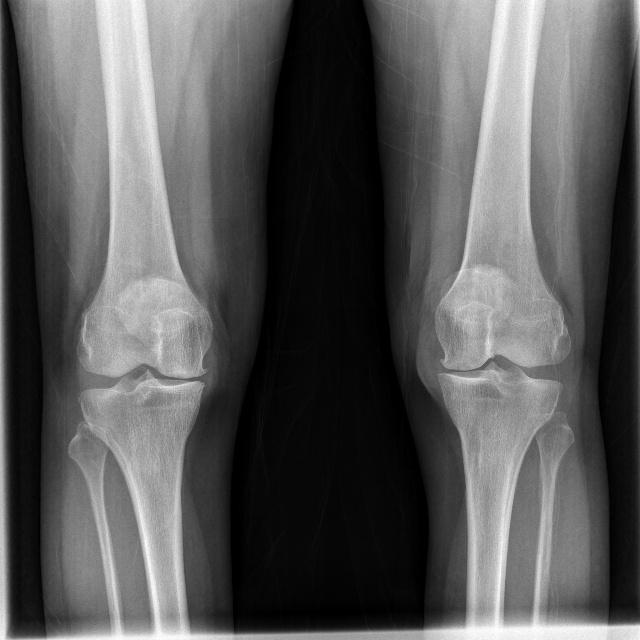Knee: (430, 301, 572, 426), (73, 315, 214, 433)
